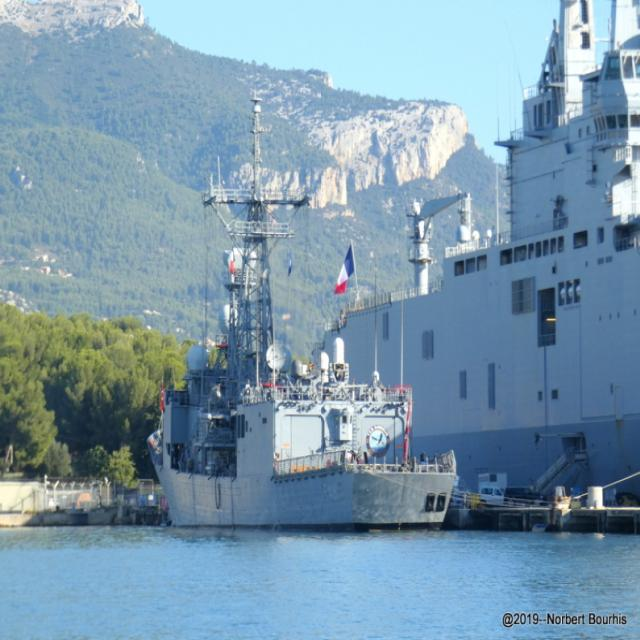Fragata: (150, 87, 461, 536)
